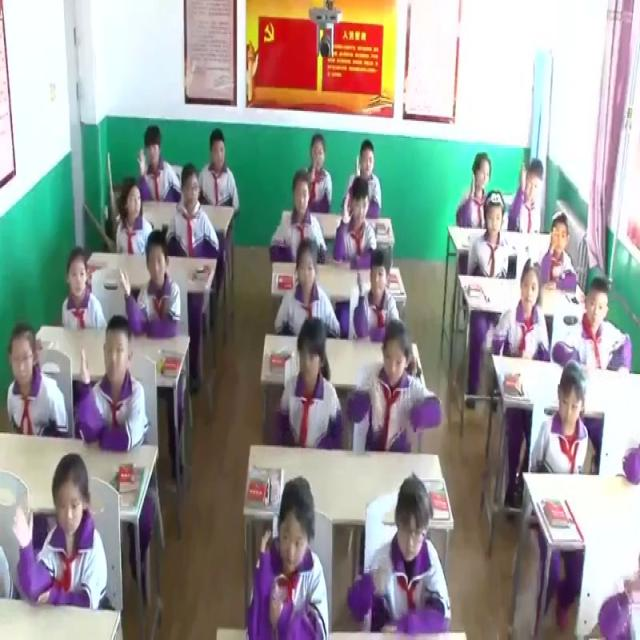focused: (351, 462, 453, 640), (348, 323, 434, 447), (552, 273, 638, 384), (276, 321, 342, 448), (3, 324, 70, 440), (537, 357, 596, 478), (490, 269, 552, 370), (277, 242, 339, 338), (468, 185, 515, 295), (166, 164, 220, 256), (276, 180, 326, 265), (64, 250, 108, 332), (198, 125, 238, 213), (116, 185, 158, 264)
raising_hand: (12, 455, 111, 615), (250, 479, 324, 640), (74, 312, 148, 454), (120, 232, 183, 338), (353, 248, 405, 338), (336, 183, 385, 267), (138, 120, 182, 208), (458, 149, 499, 233), (538, 211, 578, 292), (350, 139, 386, 217), (511, 157, 548, 230), (305, 139, 334, 217)
